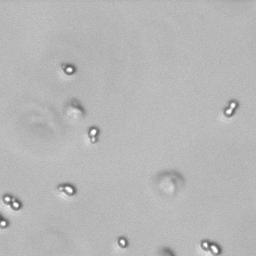budding: (200, 239, 221, 256), (2, 194, 22, 211), (57, 182, 77, 197), (224, 100, 238, 117), (89, 127, 98, 144)
individual: (62, 63, 75, 75), (118, 236, 128, 248)
